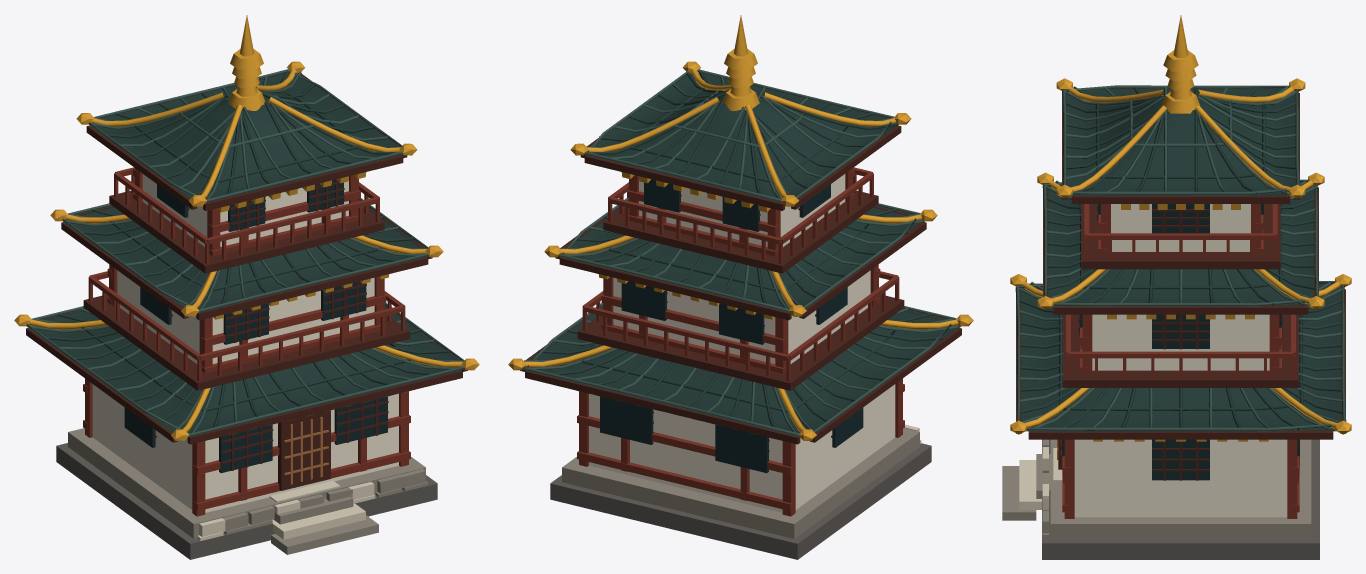
The model's file is japanese-pagoda.glb.
The picture shows the model from 3 angles, left to right: view 1: azimuth 30°, elevation 25°; view 2: azimuth 150°, elevation 25°; view 3: azimuth 270°, elevation 25°; orthographic projection. The views are drawn at different scales.
Visible parts, largest first — view 1: japanese-pagoda-jp-roof-tile-merged, japanese-pagoda-jp-dark-timber-merged, japanese-pagoda-jp-timber-merged, japanese-pagoda-jp-plaster-merged, japanese-pagoda-jp-roof-tile-highlight-merged, japanese-pagoda-jp-stone-merged, japanese-pagoda-jp-gold-accent-merged, japanese-pagoda-jp-window-dark-merged, japanese-pagoda-jp-dark-stone-merged, japanese-pagoda-jp-plaster-shadow-merged, japanese-pagoda-jp-bridge-highlight-merged; view 2: japanese-pagoda-jp-roof-tile-merged, japanese-pagoda-jp-dark-timber-merged, japanese-pagoda-jp-timber-merged, japanese-pagoda-jp-plaster-merged, japanese-pagoda-jp-roof-tile-highlight-merged, japanese-pagoda-jp-window-dark-merged, japanese-pagoda-jp-gold-accent-merged, japanese-pagoda-jp-stone-merged, japanese-pagoda-jp-dark-stone-merged; view 3: japanese-pagoda-jp-roof-tile-merged, japanese-pagoda-jp-plaster-merged, japanese-pagoda-jp-dark-timber-merged, japanese-pagoda-jp-roof-tile-highlight-merged, japanese-pagoda-jp-gold-accent-merged, japanese-pagoda-jp-stone-merged, japanese-pagoda-jp-timber-merged, japanese-pagoda-jp-dark-stone-merged, japanese-pagoda-jp-window-dark-merged, japanese-pagoda-jp-plaster-shadow-merged.
Boxes of the visible parts, x1,y1,x2,y2 form: japanese-pagoda-jp-roof-tile-merged: (27, 70, 464, 436); japanese-pagoda-jp-dark-timber-merged: (26, 73, 467, 490); japanese-pagoda-jp-timber-merged: (83, 167, 410, 516); japanese-pagoda-jp-plaster-merged: (92, 174, 398, 512); japanese-pagoda-jp-roof-tile-highlight-merged: (26, 69, 465, 436); japanese-pagoda-jp-stone-merged: (68, 428, 427, 554); japanese-pagoda-jp-gold-accent-merged: (14, 15, 479, 440); japanese-pagoda-jp-window-dark-merged: (124, 179, 387, 473); japanese-pagoda-jp-dark-stone-merged: (56, 443, 437, 559); japanese-pagoda-jp-plaster-shadow-merged: (197, 480, 375, 540); japanese-pagoda-jp-bridge-highlight-merged: (284, 417, 328, 484); japanese-pagoda-jp-roof-tile-merged: (523, 71, 960, 436); japanese-pagoda-jp-dark-timber-merged: (520, 73, 961, 460); japanese-pagoda-jp-timber-merged: (577, 167, 904, 516); japanese-pagoda-jp-plaster-merged: (589, 174, 895, 512); japanese-pagoda-jp-roof-tile-highlight-merged: (524, 69, 958, 436); japanese-pagoda-jp-window-dark-merged: (600, 179, 863, 473); japanese-pagoda-jp-gold-accent-merged: (508, 15, 973, 440); japanese-pagoda-jp-stone-merged: (562, 428, 919, 538); japanese-pagoda-jp-dark-stone-merged: (550, 443, 931, 559); japanese-pagoda-jp-roof-tile-merged: (1019, 86, 1342, 431); japanese-pagoda-jp-plaster-merged: (1074, 204, 1287, 517); japanese-pagoda-jp-dark-timber-merged: (1016, 88, 1345, 480); japanese-pagoda-jp-roof-tile-highlight-merged: (1015, 85, 1346, 431); japanese-pagoda-jp-gold-accent-merged: (1010, 15, 1351, 441); japanese-pagoda-jp-stone-merged: (1002, 439, 1311, 539); japanese-pagoda-jp-timber-merged: (1062, 204, 1299, 518); japanese-pagoda-jp-dark-stone-merged: (1042, 439, 1319, 559); japanese-pagoda-jp-window-dark-merged: (1062, 204, 1299, 480); japanese-pagoda-jp-plaster-shadow-merged: (1019, 447, 1062, 509).
Size of the model in its own units: 5.13 by 7.53 by 4.93.
